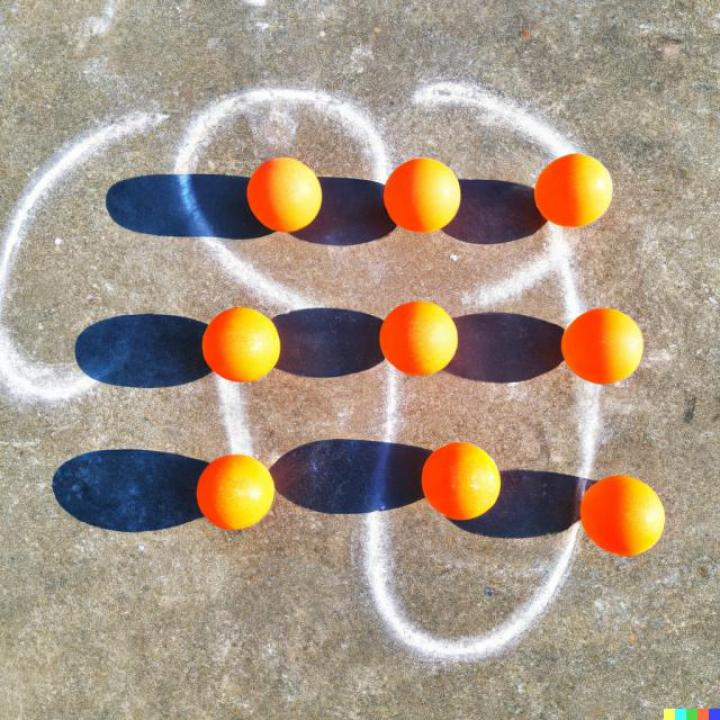orange: (582, 476, 666, 558), (562, 307, 644, 385), (198, 452, 276, 531), (423, 442, 501, 521), (535, 152, 615, 229), (378, 301, 459, 376), (202, 306, 281, 382), (382, 157, 462, 232), (248, 158, 322, 231)
